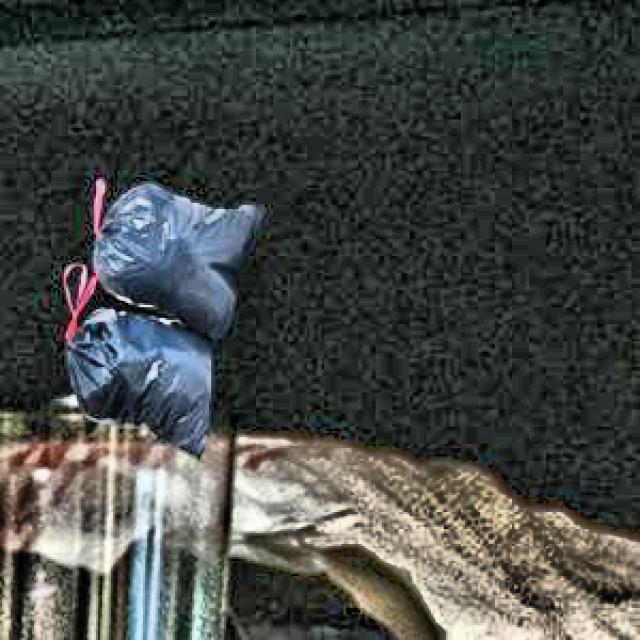Trashbag: (64, 155, 284, 325), (64, 316, 235, 437)
